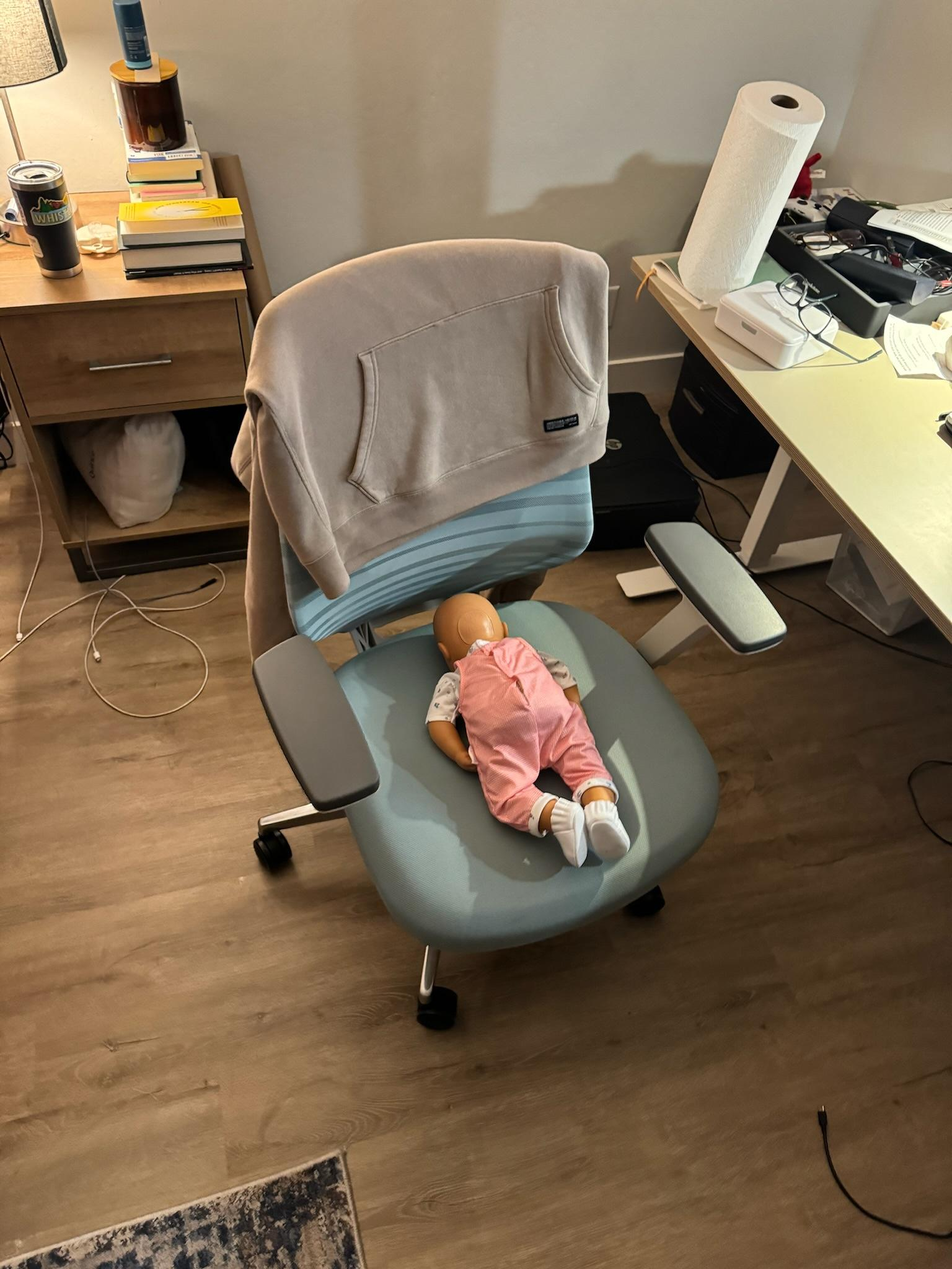baby: (415, 589, 647, 874)
